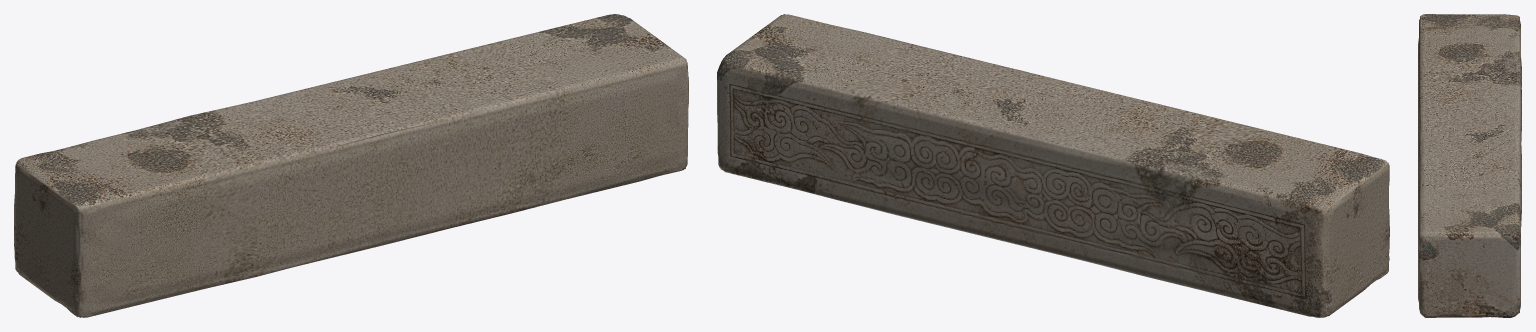
Rendered from tripo_convert_897f7721-5680-420d-99e1-47f5e91bc3fb.fbx.
3 views of the same model, side by side, from view 1: azimuth 30°, elevation 25°; view 2: azimuth 150°, elevation 25°; view 3: azimuth 270°, elevation 25° (orthographic). The views are drawn at different scales.
Visible parts, largest first — view 1: tripo_node_897f7721; view 2: tripo_node_897f7721; view 3: tripo_node_897f7721.
Boxes of the visible parts, box(x1,y1,x2,y2) form: tripo_node_897f7721: box(14, 14, 688, 317); tripo_node_897f7721: box(717, 14, 1389, 317); tripo_node_897f7721: box(1418, 14, 1521, 317).
Size of the model in its own units: 0.998 by 0.1777 by 0.1973.
Materials: 1 (1 with a texture image).
